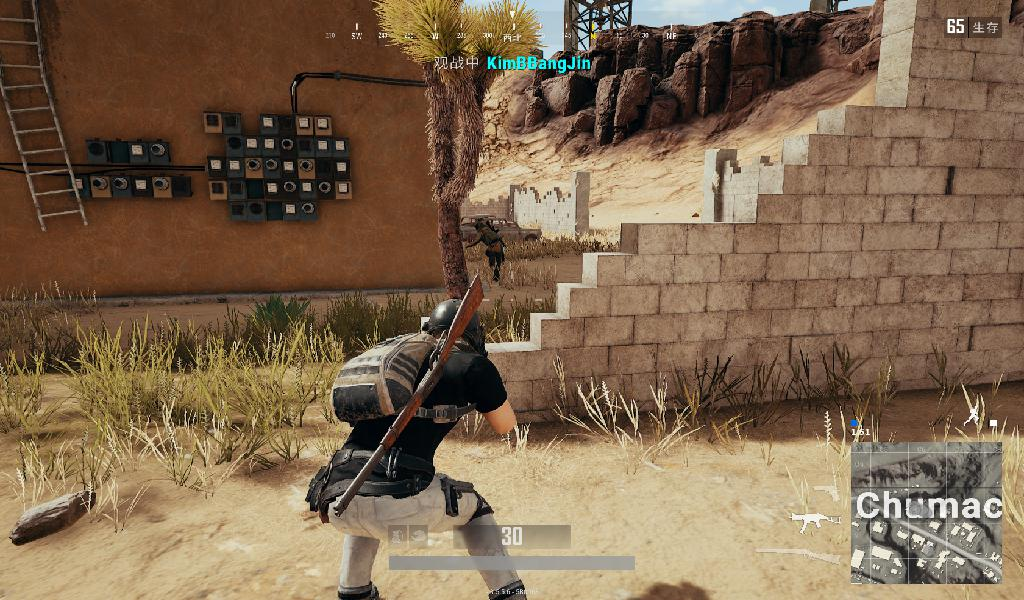Target Person: (304, 292, 527, 600), (466, 217, 506, 286)
